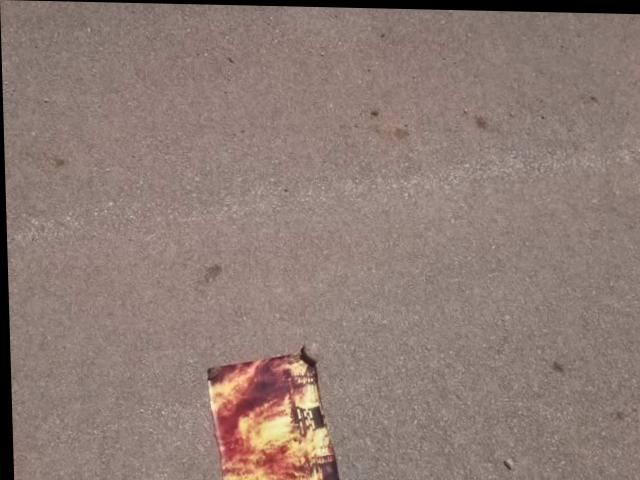fire-poster: (201, 341, 340, 480)
